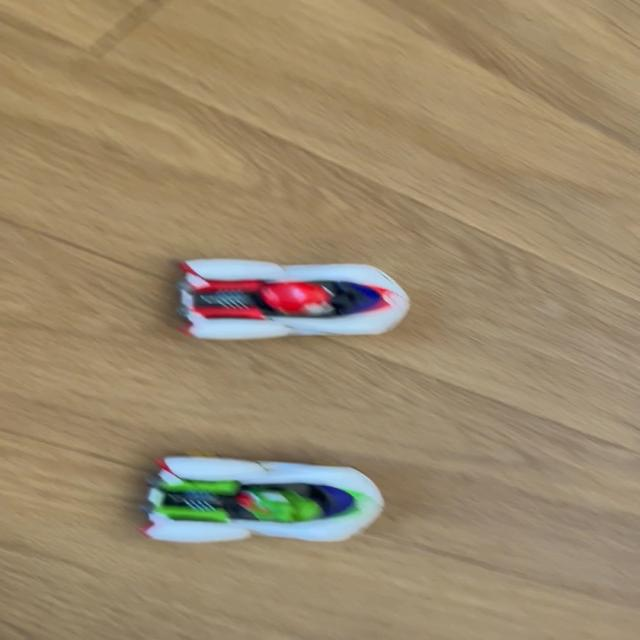mario: (144, 254, 426, 354)
yoshi: (121, 448, 406, 558)
